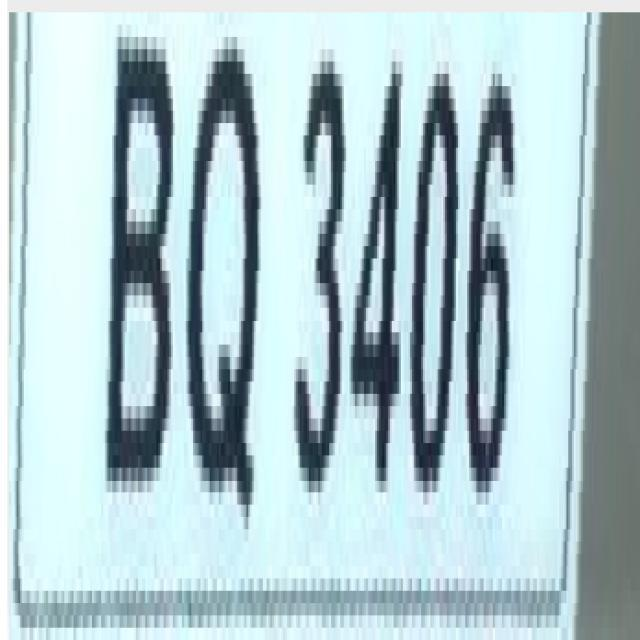0: (406, 0, 459, 557)
3: (290, 5, 346, 537)
4: (347, 5, 405, 520)
6: (462, 0, 520, 547)
B: (104, 5, 178, 534)
Q: (184, 48, 264, 544)
